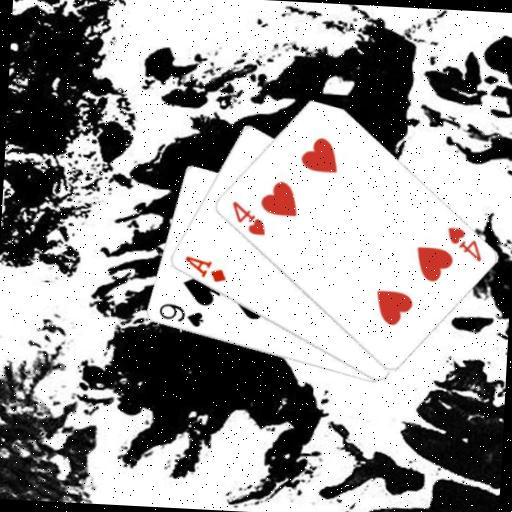4H: (227, 198, 269, 239), (443, 223, 485, 264)
9S: (155, 300, 206, 330)
AD: (180, 253, 229, 286)
